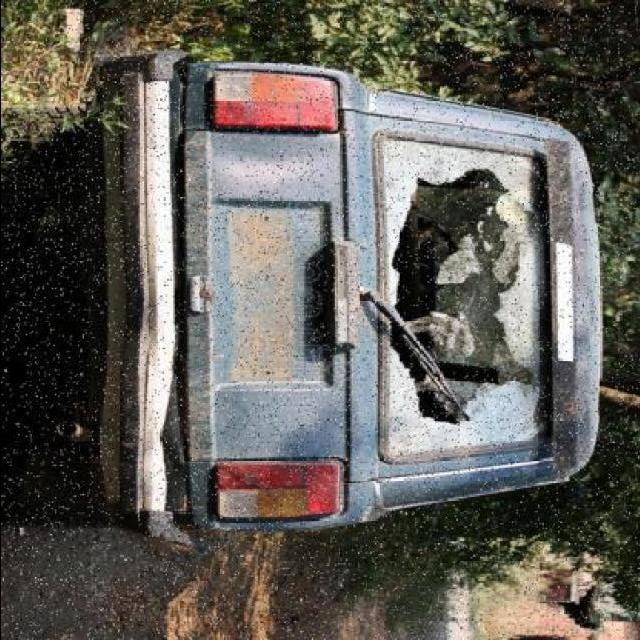Rear-windscreen-Damage: (315, 103, 572, 495)
